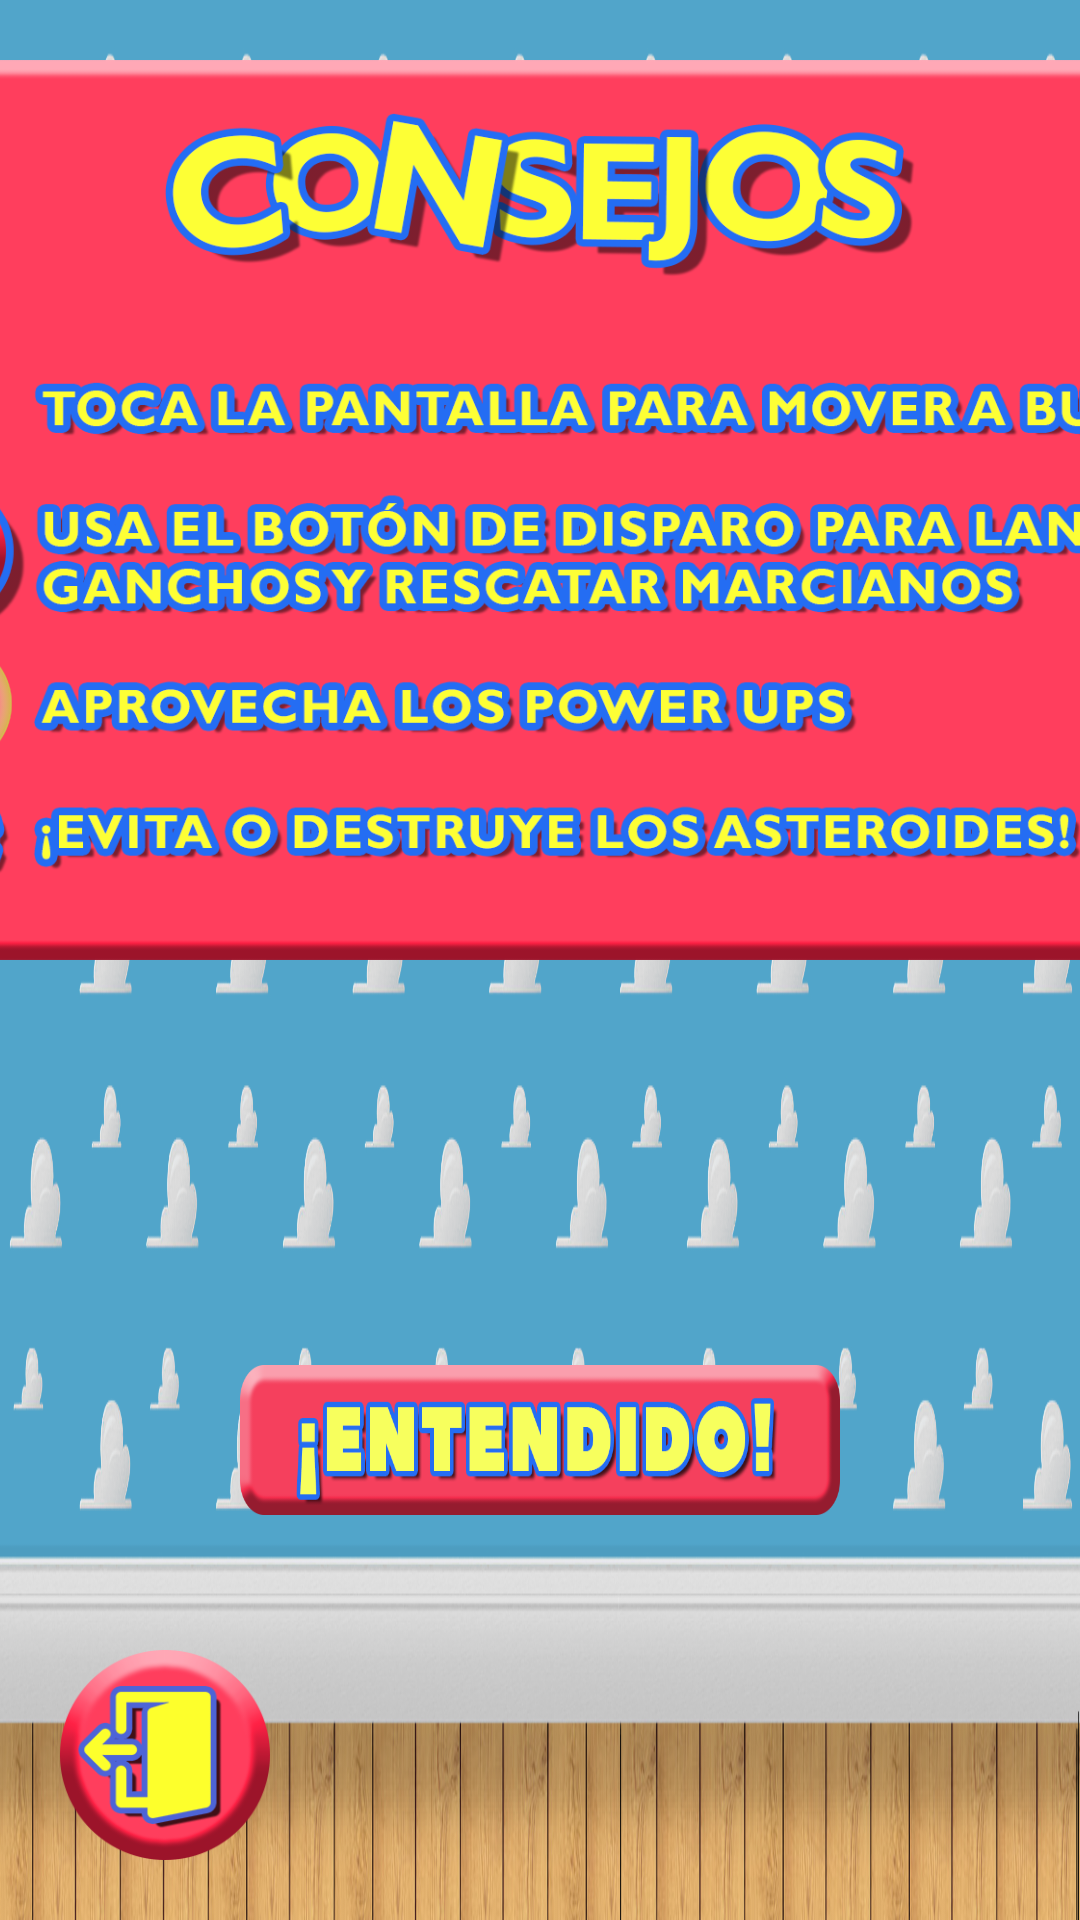

Icons on this 1080w x 1920h Android screen, each with the point to tap as (x=x, y=y):
bot nsalir: (x=165, y=1755)
